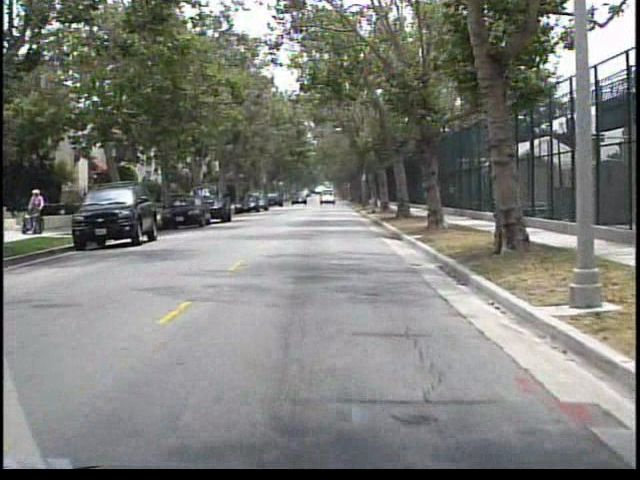person: (29, 187, 50, 236)
